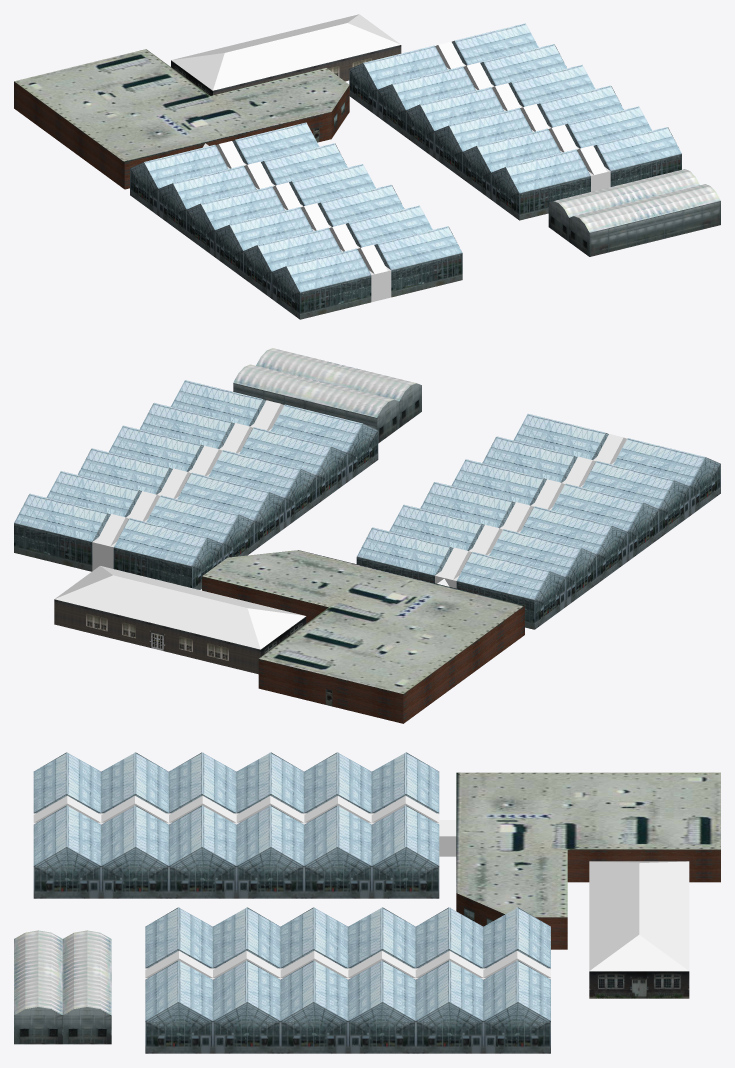
Rendered from Horticulture+Greenhouses.fbx.
The picture shows the model from 3 angles, top to bottom: view 1: azimuth 30°, elevation 25°; view 2: azimuth 150°, elevation 25°; view 3: azimuth 270°, elevation 25°; orthographic projection. The views are drawn at different scales.
Parts seen in each view (by area): view 1: Model, Component_12_2, Component_12_4, Component_7_17, Component_7_45, Component_7_41, Component_7_21, Component_7_32, Component_7_48, Component_7_8, Component_7_16, Component_7_24 (+36 smaller); view 2: Model, Component_12_1, Component_7_27, Component_7_3, Component_7_7, Component_7_31, Component_7_6, Component_7_46, Component_7_14, Component_7_30, Component_7_22, Component_7_38 (+35 smaller); view 3: Model, Component_12_3, Component_12_4, Component_6_12, Component_6_17, Component_6_25, Component_6_4, Component_6_33, Component_6_9, Component_6_1, Component_6_20, Component_6_28 (+54 smaller).
Boxes of the visible parts, box(x1,y1,x2,y2) form: Model: box(14, 14, 400, 189); Component_12_2: box(569, 200, 655, 256); Component_12_4: box(640, 184, 720, 240); Component_7_17: box(377, 226, 462, 270); Component_7_45: box(505, 149, 590, 193); Component_7_41: box(596, 127, 681, 170); Component_7_21: box(286, 248, 370, 292); Component_7_32: box(363, 45, 447, 89); Component_7_48: box(477, 128, 560, 172); Component_7_8: box(144, 144, 228, 188); Component_7_16: box(200, 186, 284, 230); Component_7_24: box(257, 227, 341, 271); Model: box(54, 550, 524, 723); Component_12_1: box(305, 382, 399, 443); Component_7_27: box(14, 493, 107, 541); Component_7_3: box(357, 527, 450, 575); Component_7_7: box(457, 551, 550, 599); Component_7_31: box(114, 518, 207, 566); Component_7_6: box(489, 529, 581, 577); Component_7_46: box(270, 404, 362, 452); Component_7_14: box(551, 483, 643, 531); Component_7_30: box(146, 495, 238, 543); Component_7_22: box(613, 438, 705, 486); Component_7_38: box(208, 450, 300, 497); Model: box(456, 772, 720, 971); Component_12_3: box(62, 968, 111, 1044); Component_12_4: box(14, 968, 62, 1044); Component_6_12: box(236, 847, 304, 898); Component_6_17: box(33, 847, 101, 898); Component_6_25: box(415, 1002, 483, 1053); Component_6_4: box(371, 847, 439, 898); Component_6_33: box(280, 1002, 348, 1053); Component_6_9: box(169, 847, 236, 898); Component_6_1: box(304, 847, 371, 898); Component_6_20: box(101, 847, 168, 898); Component_6_28: box(483, 1002, 550, 1053).
Bounding box in the file's own units: 3236 × 316 × 3873.
